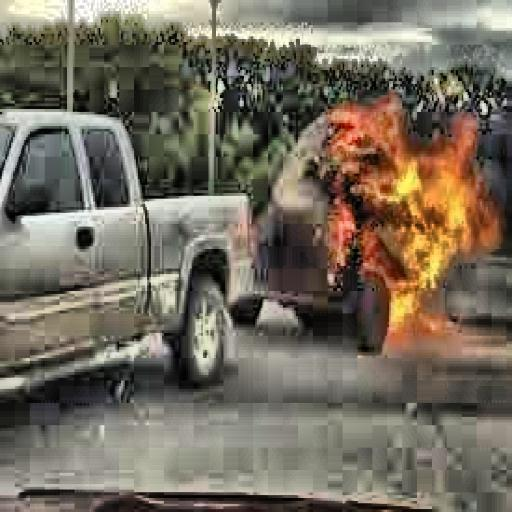fire: (315, 95, 499, 350)
